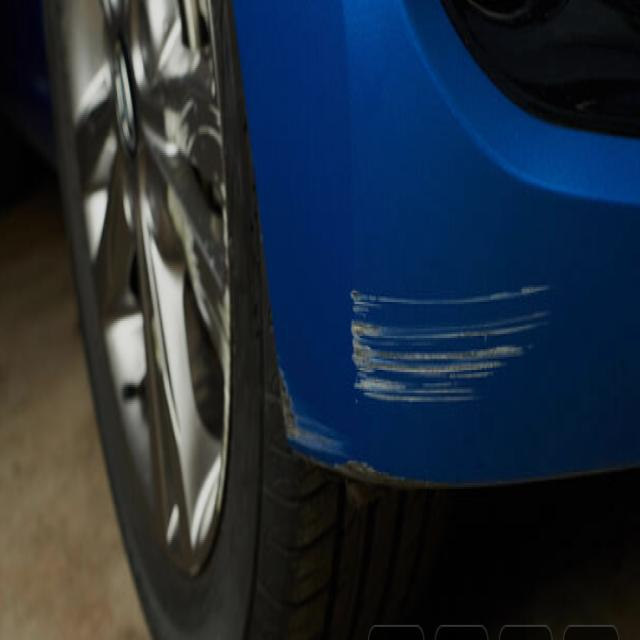scratch: (344, 269, 566, 422), (280, 399, 411, 490)
